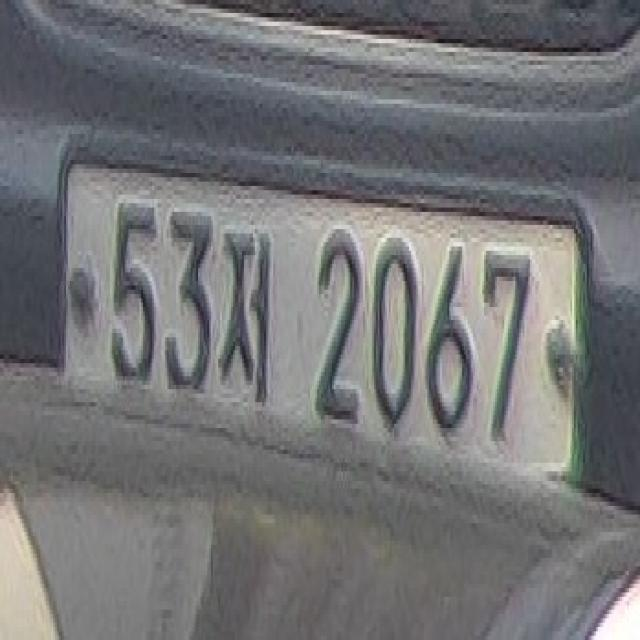0: (371, 220, 424, 446)
2: (303, 216, 363, 437)
3: (156, 169, 213, 402)
5: (102, 182, 160, 398)
6: (420, 216, 479, 454)
7: (479, 238, 530, 458)
jeo: (211, 199, 288, 402)
license_plate: (49, 147, 585, 502)
